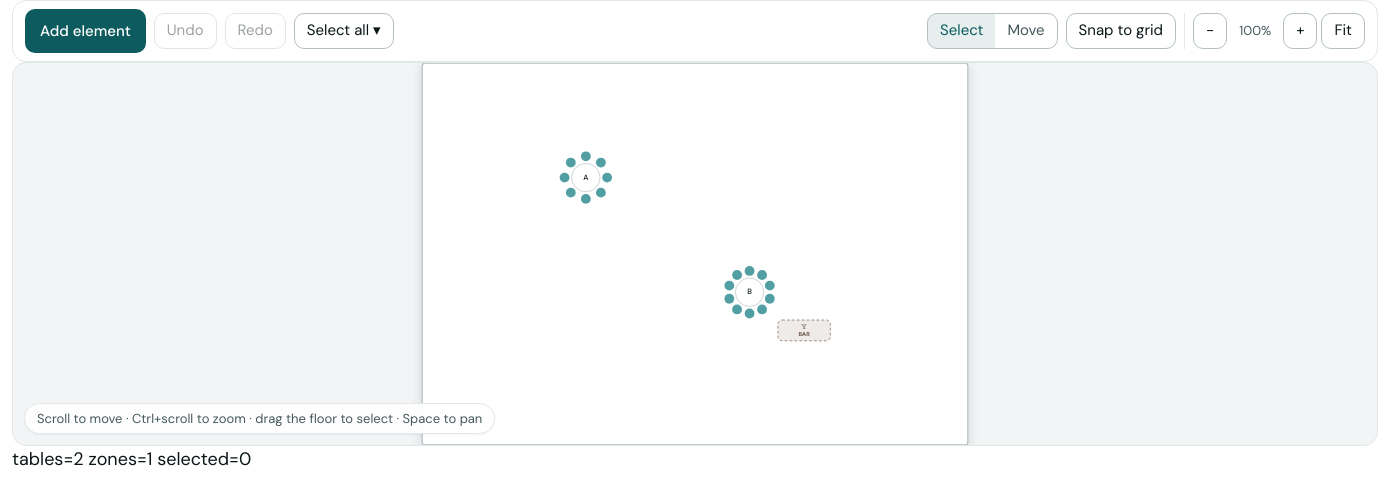
Test case: Select all, narrowed › a seat-capacity filter cannot sweep up the furniture
Click the button "Select all ▾": (344, 31) [294,13,394,49]
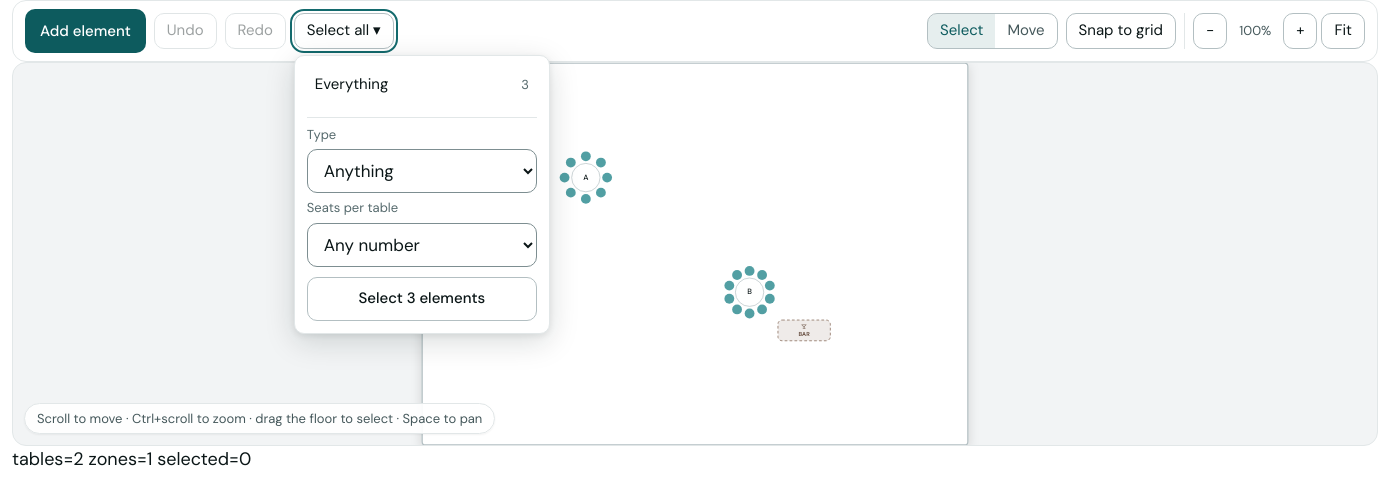
Select "10 seats" in the dropdown labelled "Seats per table": (422, 245) [307,223,537,267]
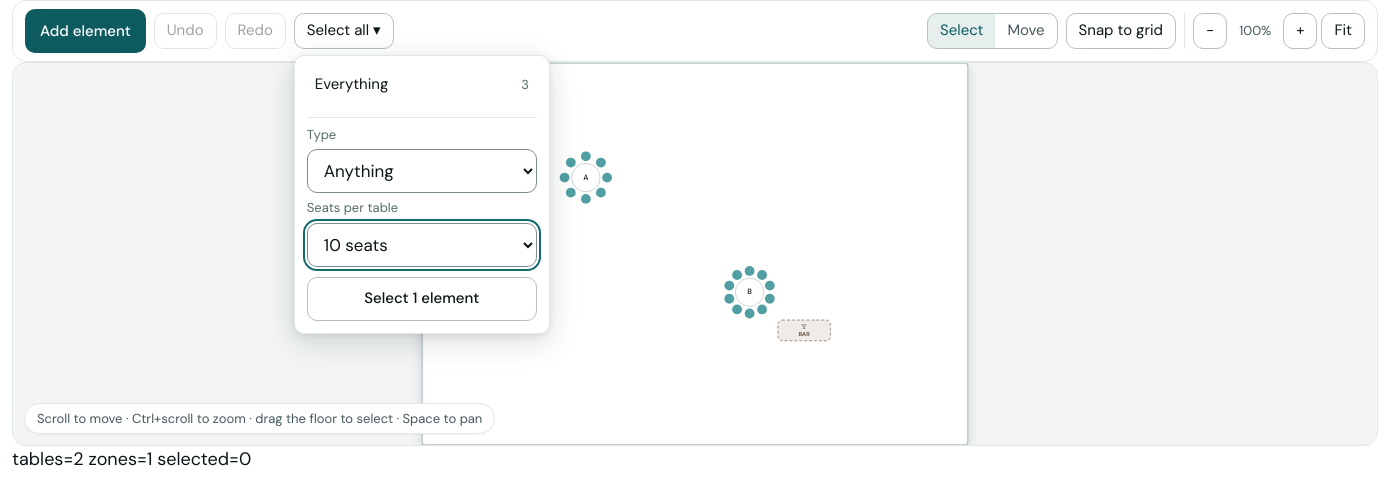
Click the button "Select 1 element": (422, 299) [307,277,537,321]
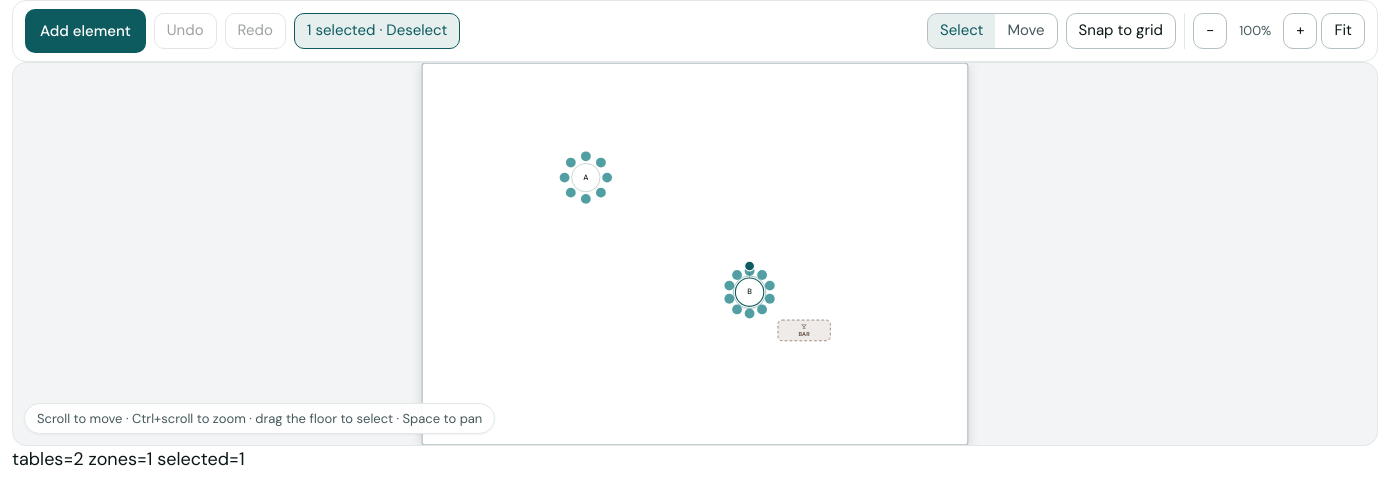
Result: the text with test id "state" shows "selected=1" at [12,447,245,471]
